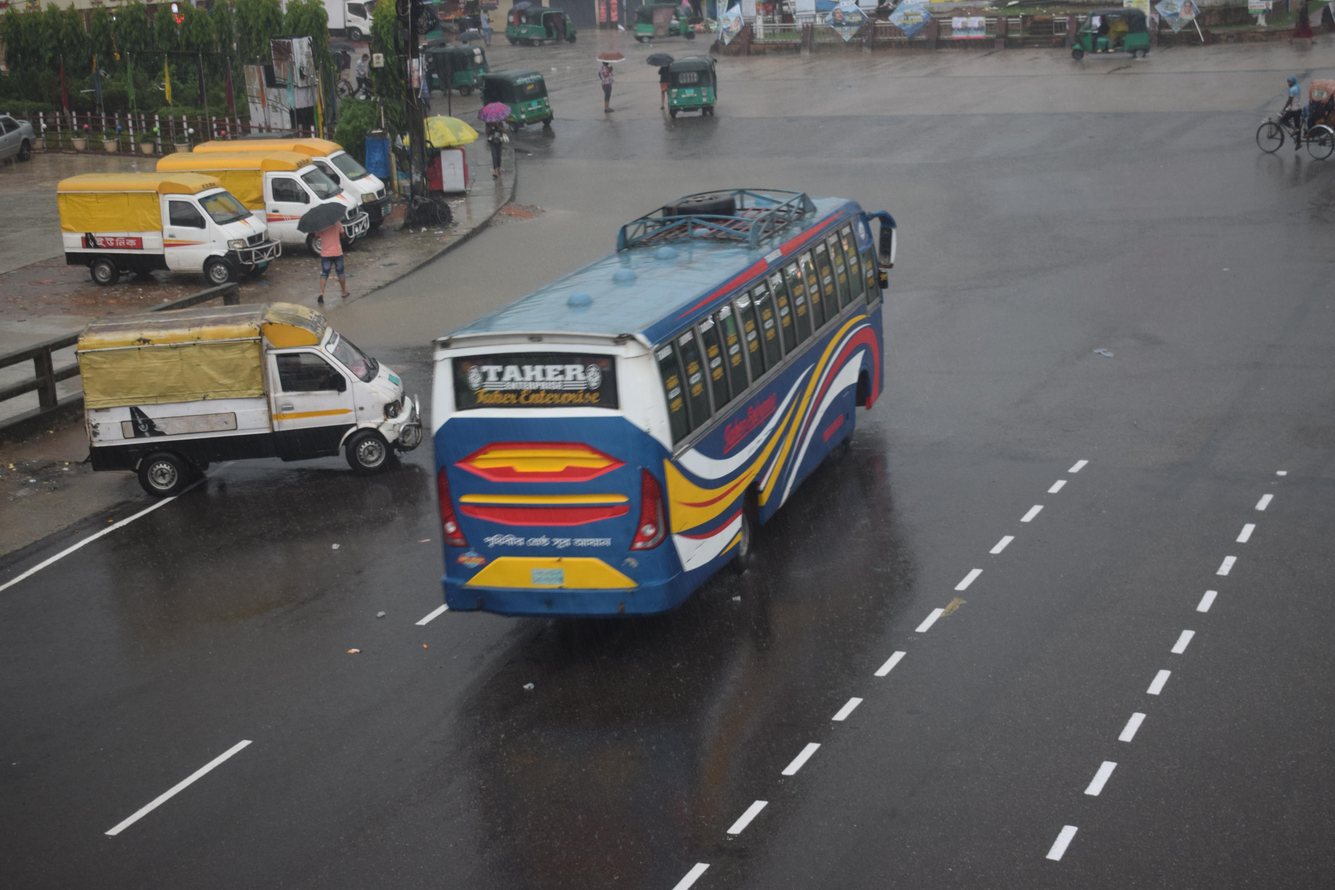Bus: (373, 164, 954, 690)
Car: (32, 277, 434, 544), (35, 163, 291, 296), (152, 152, 373, 243), (1234, 42, 1335, 181), (0, 107, 54, 172)
